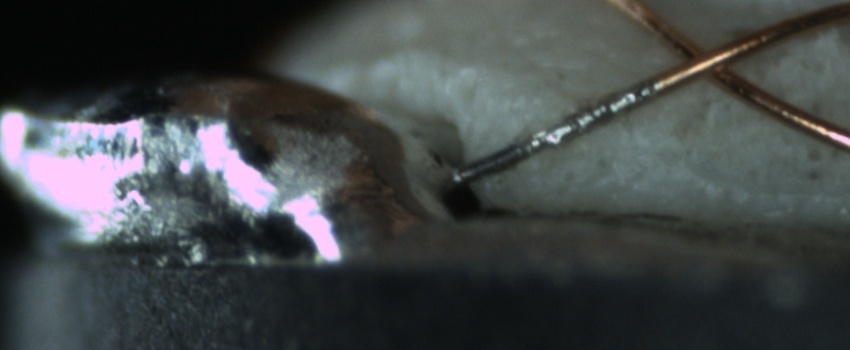CL: (656, 27, 754, 93)
TS: (453, 80, 661, 183)
